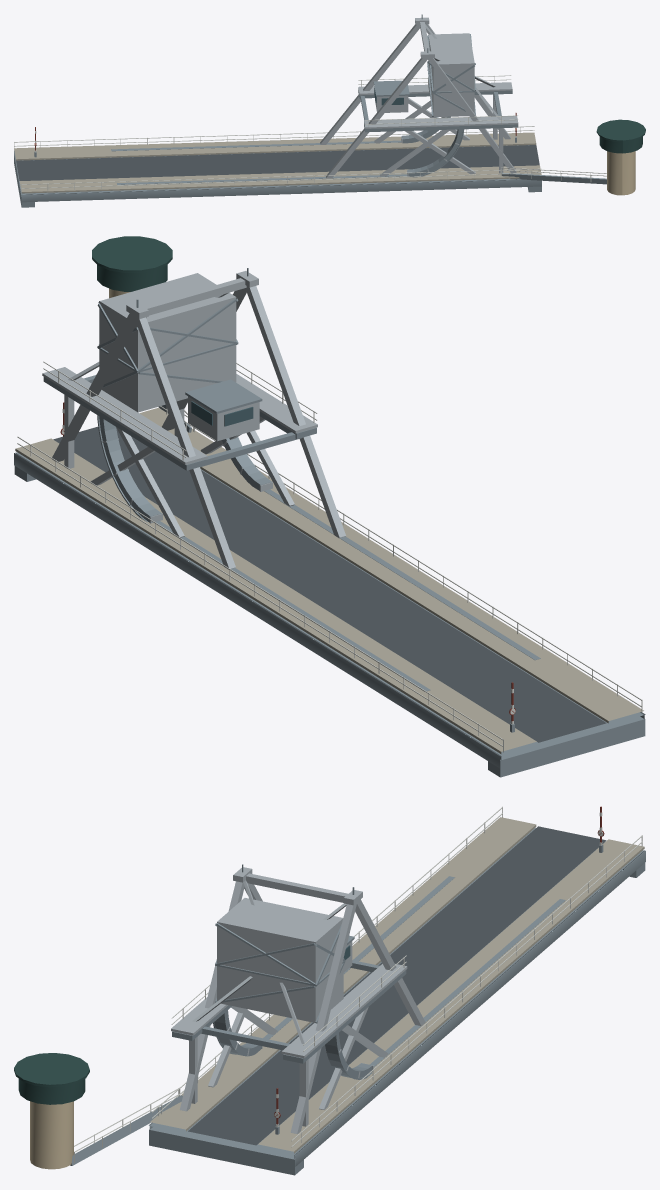
The model's file is pegasus-bridge-far.glb.
The picture shows the model from 3 angles, top to bottom: view 1: azimuth 30°, elevation 25°; view 2: azimuth 150°, elevation 25°; view 3: azimuth 270°, elevation 25°; orthographic projection. The views are drawn at different scales.
Parts seen in each view (by area): view 1: pegasus-bridge-0-concrete, pegasus-bridge-0-steel, pegasus-bridge-0-asphalt, pegasus-bridge-0-foundation, pegasus-bridge-0-edge, pegasus-bridge-0-rail, pegasus-bridge-0-roof, pegasus-bridge-0-tower; view 2: pegasus-bridge-0-steel, pegasus-bridge-0-concrete, pegasus-bridge-0-asphalt, pegasus-bridge-0-foundation, pegasus-bridge-0-edge, pegasus-bridge-0-rail, pegasus-bridge-0-roof; view 3: pegasus-bridge-0-steel, pegasus-bridge-0-concrete, pegasus-bridge-0-asphalt, pegasus-bridge-0-foundation, pegasus-bridge-0-edge, pegasus-bridge-0-rail, pegasus-bridge-0-roof, pegasus-bridge-0-tower.
Part boxes in pixels (box(x1,y1,x2,y2)): pegasus-bridge-0-concrete: box(14, 132, 541, 193); pegasus-bridge-0-steel: box(320, 17, 518, 178); pegasus-bridge-0-asphalt: box(16, 145, 539, 180); pegasus-bridge-0-foundation: box(14, 145, 606, 207); pegasus-bridge-0-edge: box(34, 14, 606, 184); pegasus-bridge-0-rail: box(14, 75, 606, 191); pegasus-bridge-0-roof: box(596, 119, 645, 153); pegasus-bridge-0-tower: box(607, 151, 635, 195); pegasus-bridge-0-steel: box(42, 271, 345, 569); pegasus-bridge-0-concrete: box(15, 407, 643, 753); pegasus-bridge-0-asphalt: box(53, 426, 606, 742); pegasus-bridge-0-foundation: box(14, 406, 645, 777); pegasus-bridge-0-edge: box(43, 268, 540, 732); pegasus-bridge-0-rail: box(17, 361, 642, 752); pegasus-bridge-0-roof: box(92, 236, 172, 291); pegasus-bridge-0-steel: box(171, 867, 425, 1133); pegasus-bridge-0-concrete: box(150, 817, 644, 1153); pegasus-bridge-0-asphalt: box(188, 826, 606, 1145); pegasus-bridge-0-foundation: box(70, 827, 645, 1175); pegasus-bridge-0-edge: box(71, 844, 603, 1164); pegasus-bridge-0-rail: box(74, 806, 642, 1162); pegasus-bridge-0-roof: box(14, 1053, 89, 1104); pegasus-bridge-0-tower: box(30, 1101, 73, 1169).
Bounding box in the file's own units: 82.32 × 23.45 × 61.55.
